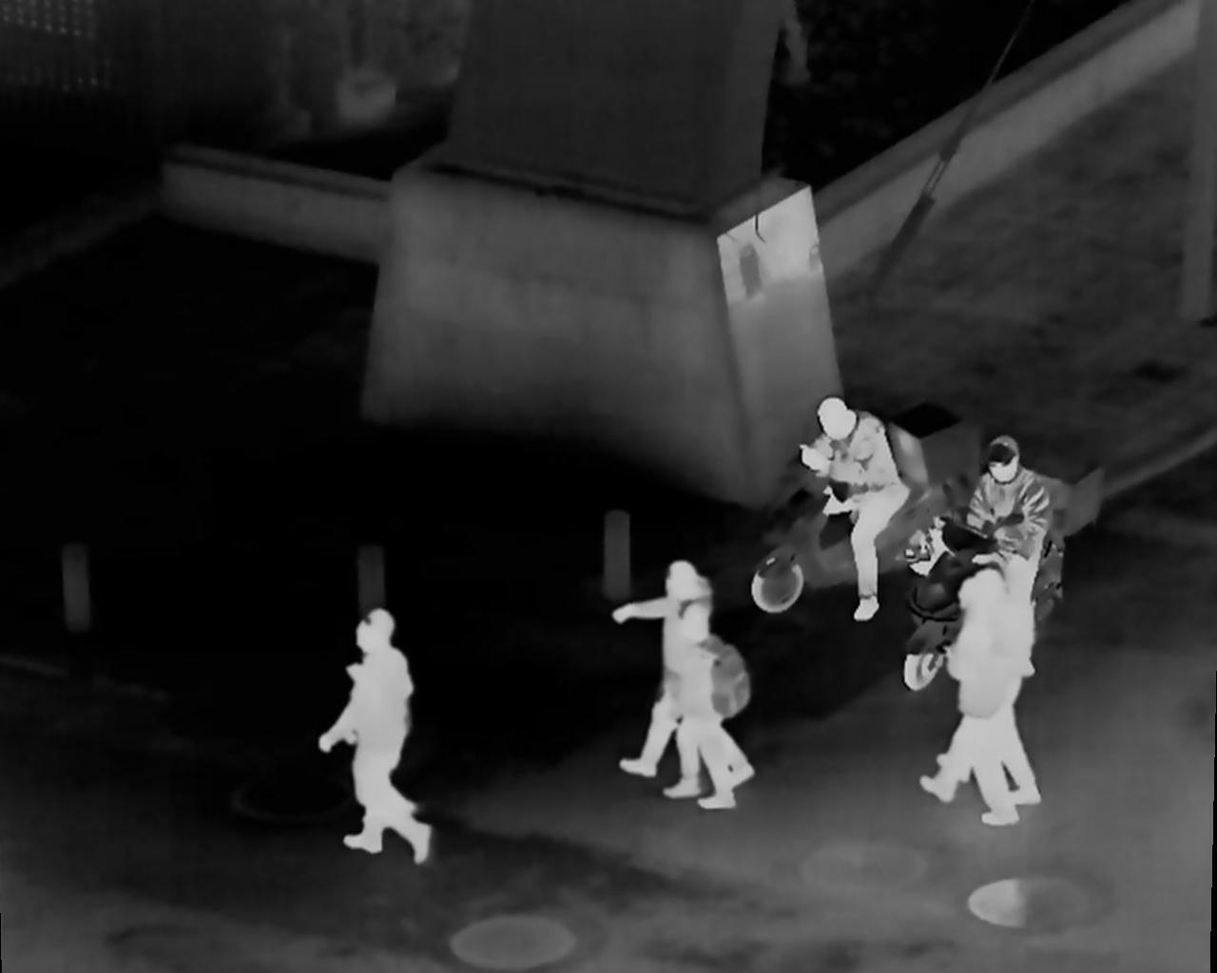person: (609, 563, 755, 789), (324, 617, 455, 854), (923, 581, 1023, 827), (937, 571, 1041, 806), (806, 400, 913, 618), (668, 601, 750, 810), (966, 433, 1051, 629)
